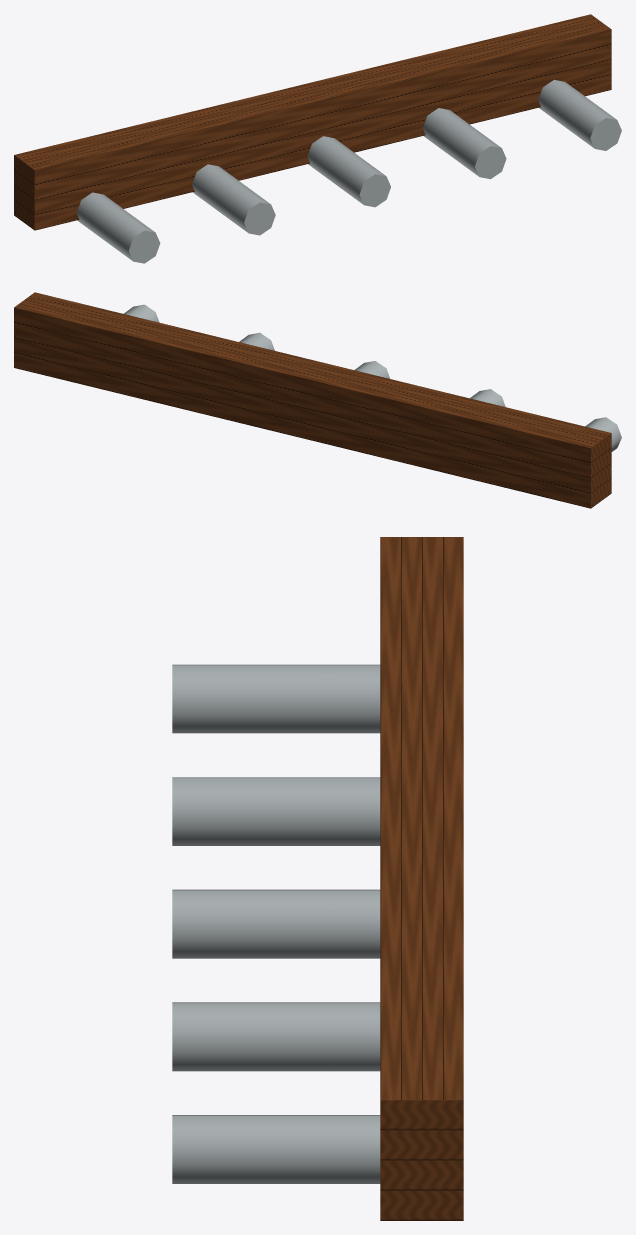
The model's file is coatHooks.glb.
3 views of the same model, one above another, from view 1: azimuth 30°, elevation 25°; view 2: azimuth 150°, elevation 25°; view 3: azimuth 270°, elevation 25° (orthographic). The views are drawn at different scales.
Parts seen in each view (by area): view 1: hall-coat-hook-rail; view 2: hall-coat-hook-rail; view 3: hall-coat-hook-rail.
Part boxes in pixels (bbox=[...]): hall-coat-hook-rail: bbox=[14, 14, 621, 263]; hall-coat-hook-rail: bbox=[14, 292, 621, 508]; hall-coat-hook-rail: bbox=[172, 537, 463, 1220].
Bounding box in the file's own units: 0.8 × 0.092 × 0.175.
Materials: 2 (1 with a texture image).
